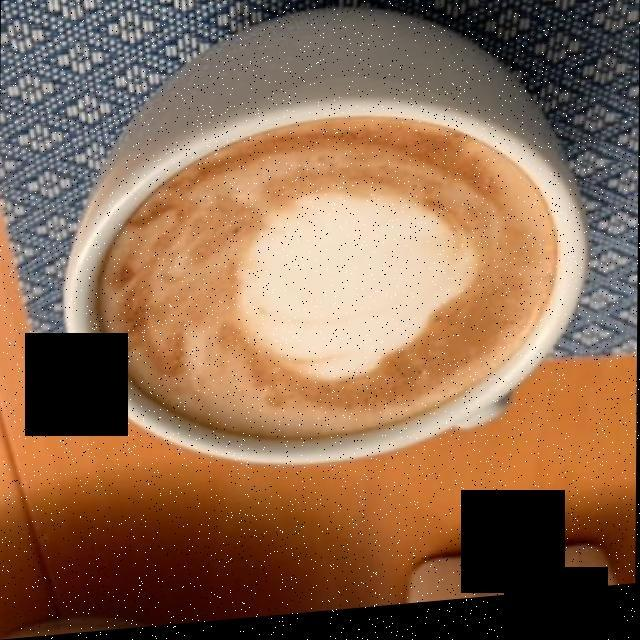coffee: (113, 129, 552, 436)
